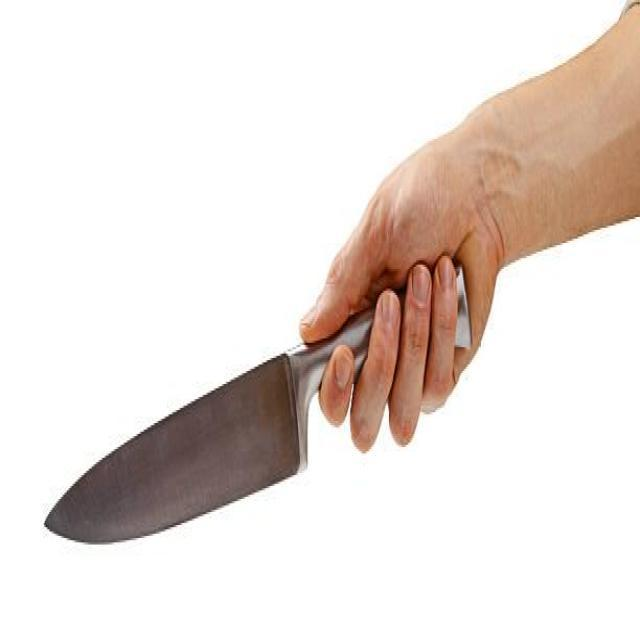faca: (36, 188, 506, 568)
